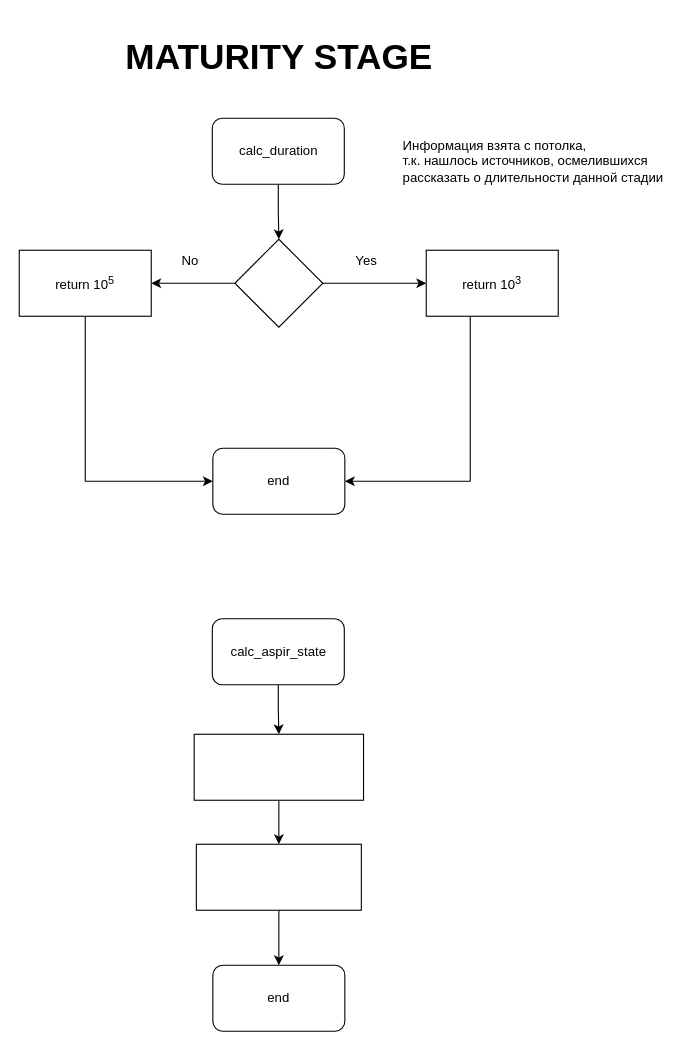
The diagram is 695 pixels wide and 1051 high, and some of its shapes have lost their labels. The shapes that lost their labels are listed below. From the top down, each one's centre as x and y in pixels, then its label:
[278,282]: mass > 2
[278,766]: temp = random(4500-6000)
[278,876]: rad *= 2 lum *= 2
